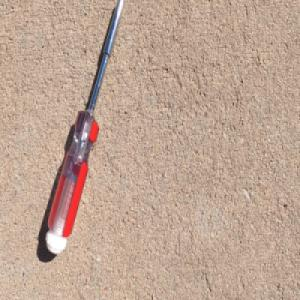Screwdriver: (43, 0, 125, 256)
